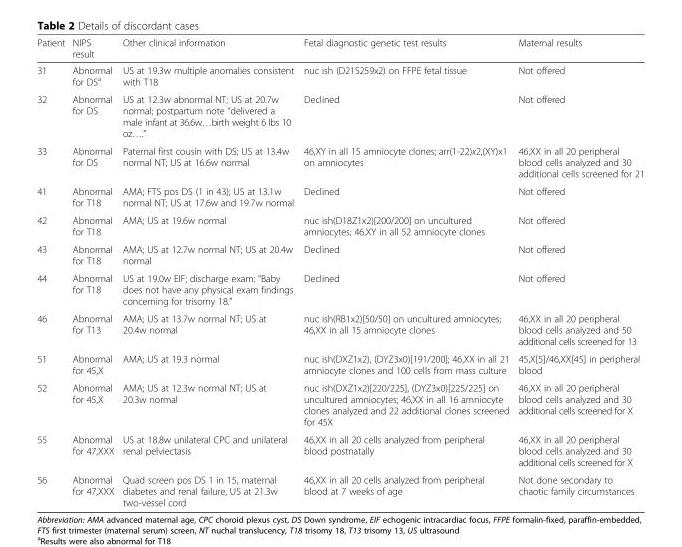table: (36, 36, 643, 507)
table column: (298, 36, 513, 507), (117, 36, 298, 507), (513, 36, 643, 507), (68, 36, 117, 507), (36, 36, 68, 507)
table column header: (36, 36, 643, 61)
table row: (36, 378, 643, 430), (36, 90, 643, 141), (36, 141, 643, 182), (36, 269, 643, 309), (36, 309, 643, 349), (36, 430, 643, 470), (36, 470, 643, 507), (36, 61, 643, 90), (36, 182, 643, 211), (36, 211, 643, 240), (36, 240, 643, 269), (36, 349, 643, 378), (36, 36, 643, 61)
